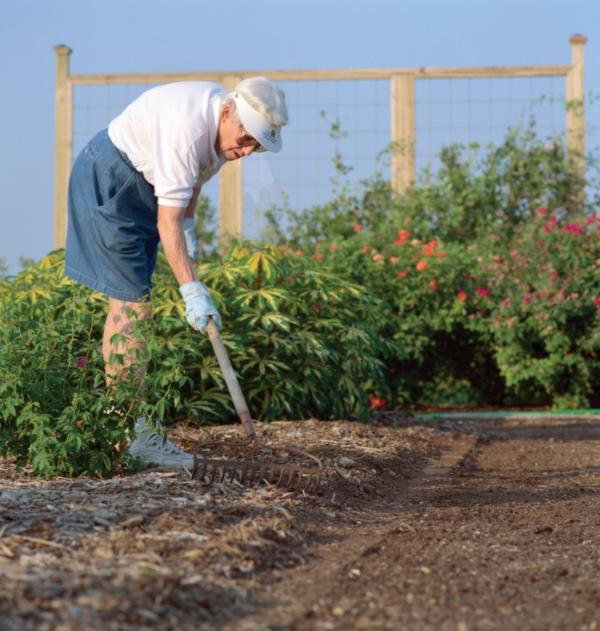person: (64, 75, 286, 468)
